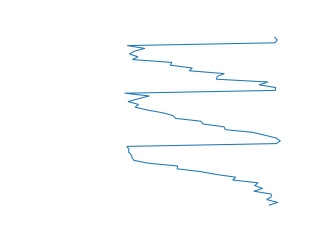distributaryMouthBar: (120, 34, 286, 207)
